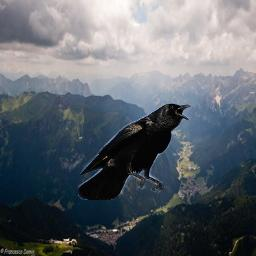Crow: (78, 102, 191, 200)
